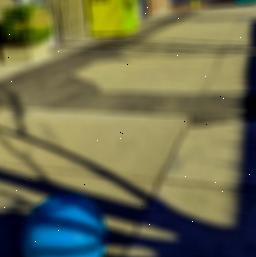algae: (18, 189, 107, 257)
